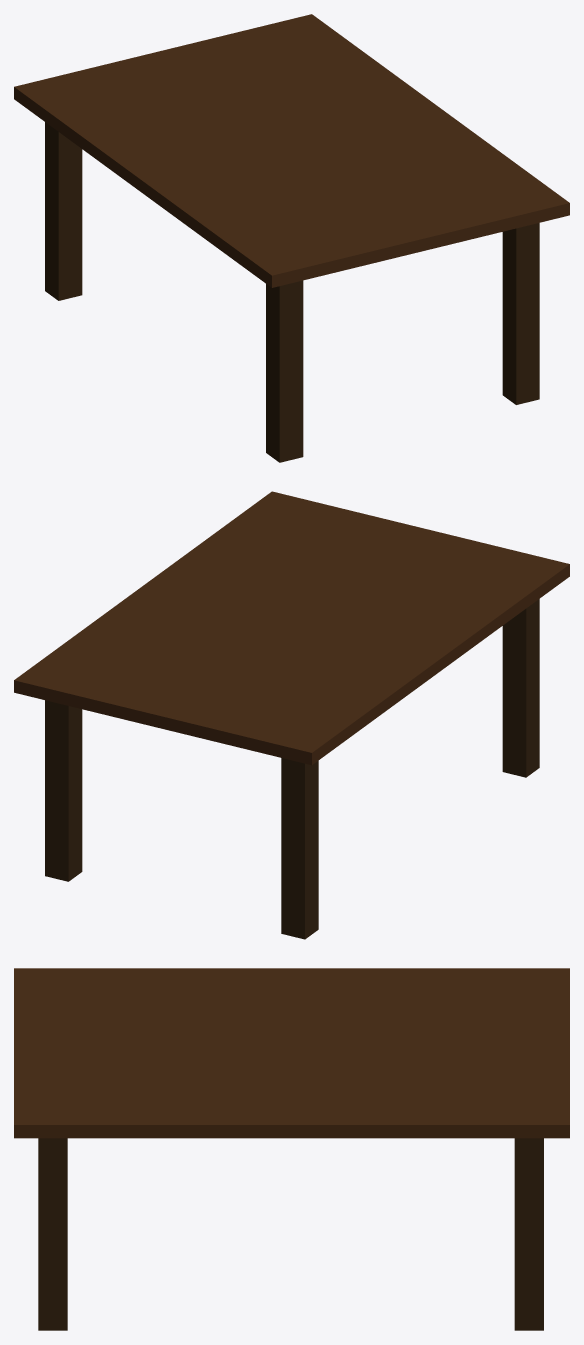
The model's file is Table1WIP.fbx.
3 renders of one model, top to bottom at view 1: azimuth 30°, elevation 25°; view 2: azimuth 150°, elevation 25°; view 3: azimuth 270°, elevation 25°, orthographic. The views are drawn at different scales.
Parts seen in each view (by area): view 1: Cube.004; view 2: Cube.004; view 3: Cube.004.
Boxes of the visible parts, box(x1,y1,x2,y2) form: Cube.004: box(14, 14, 569, 462); Cube.004: box(14, 491, 569, 939); Cube.004: box(14, 968, 569, 1330).
Bounding box in the file's own units: 504 × 323 × 756.
